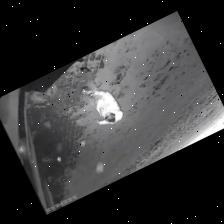person: (81, 66, 123, 123)
